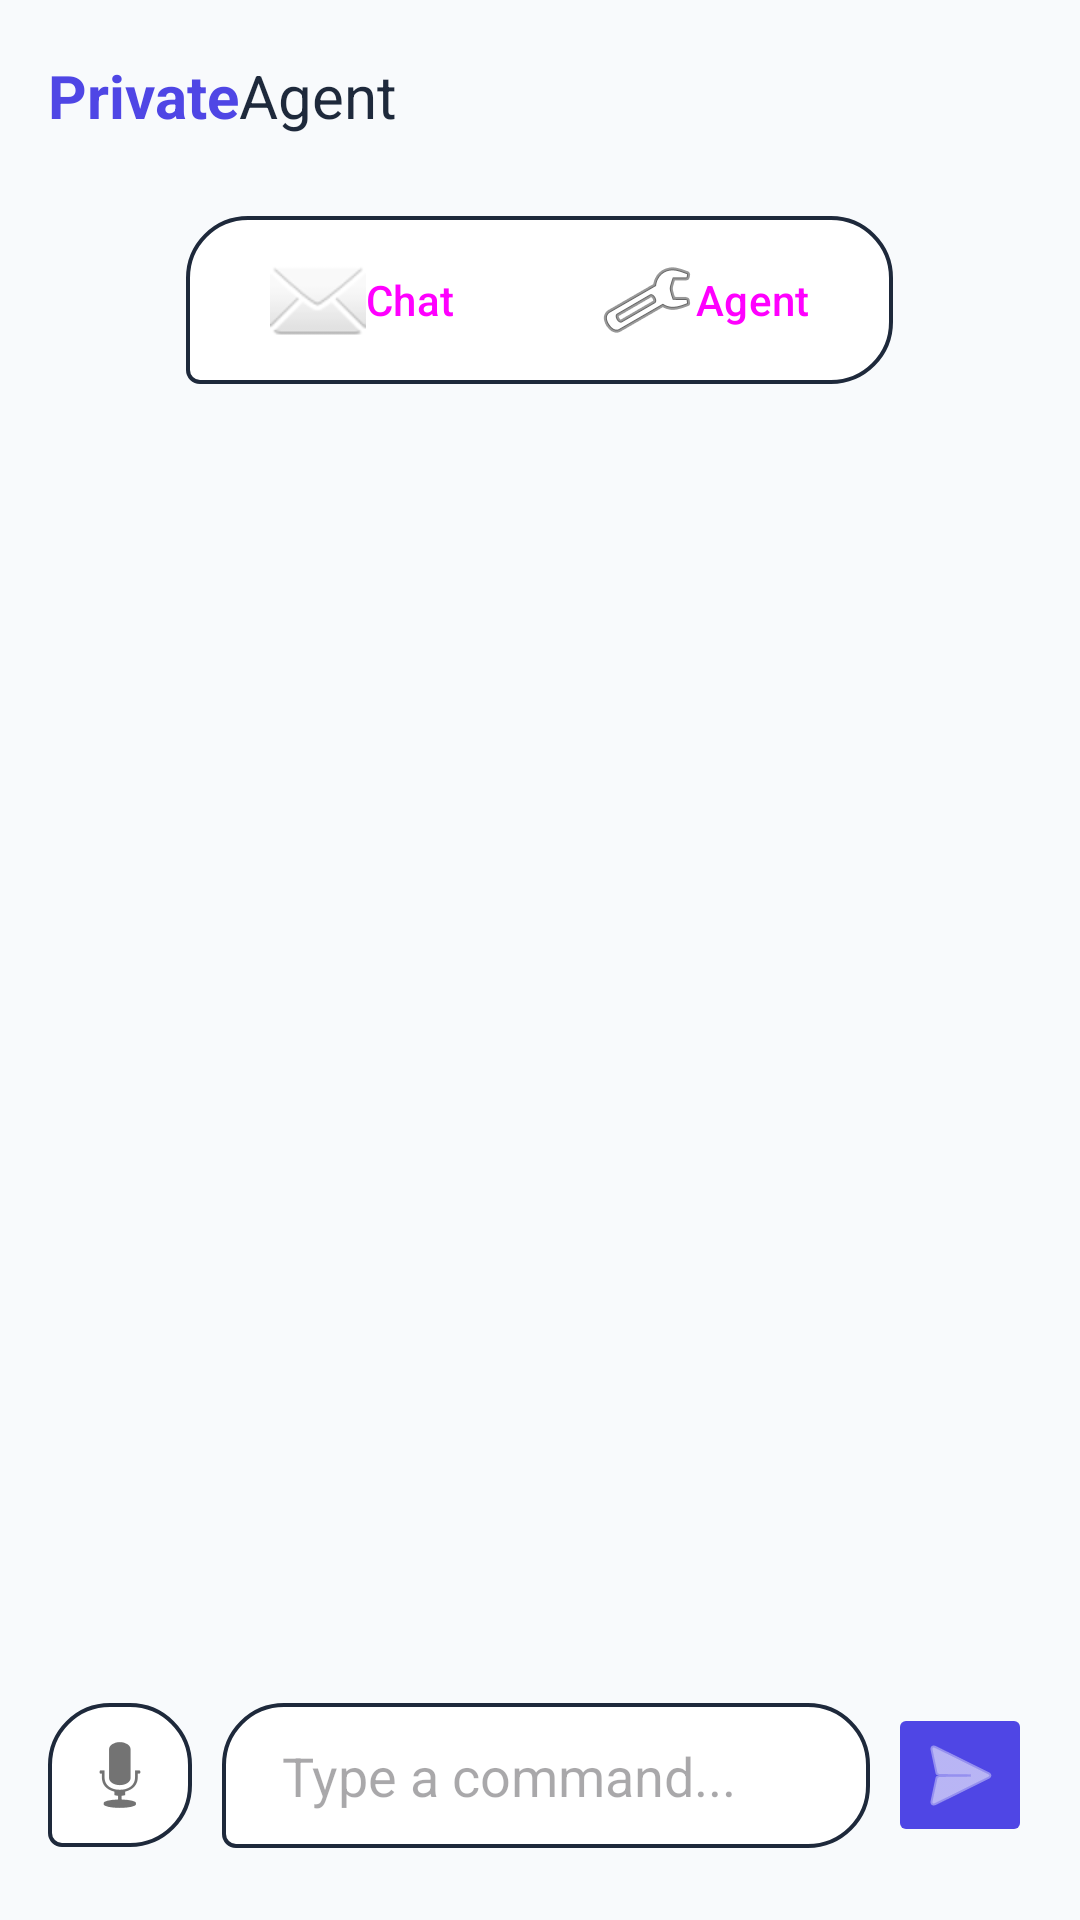

Icons on this 1080w x 1920h Android screen, each with its box as BBox(x1, y1, x2, y2):
send: BBox(900, 1721, 1020, 1829)
speak now: BBox(48, 1703, 192, 1847)
